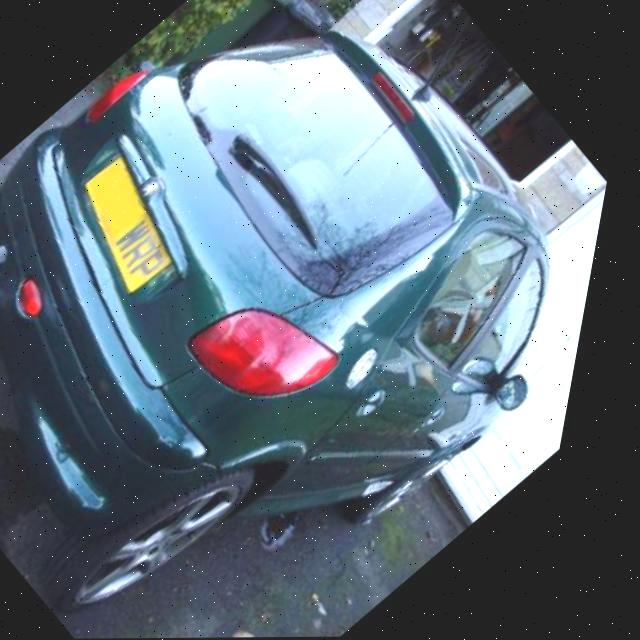license_plate: (52, 154, 214, 297)
